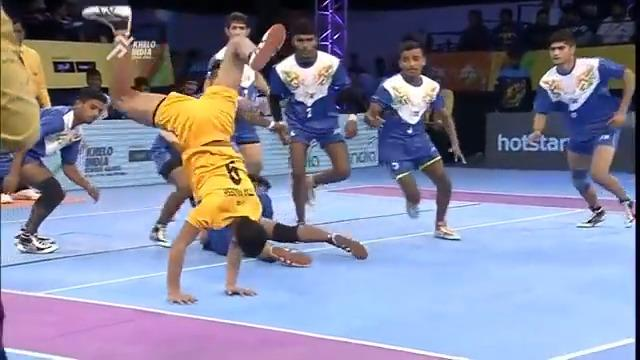Player: (526, 29, 636, 228), (363, 38, 466, 243), (2, 86, 111, 254)
Raider: (104, 27, 292, 305)
referee: (267, 20, 357, 227)
